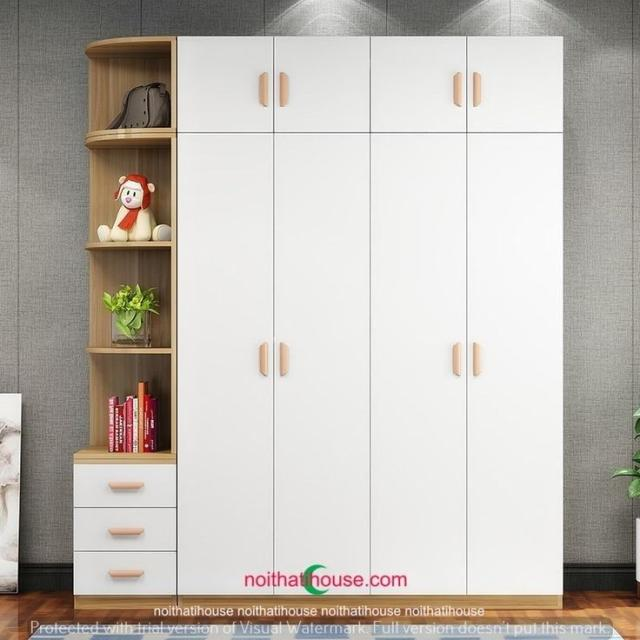door: (175, 132, 374, 560), (372, 130, 564, 562)
obstacle: (176, 35, 564, 132), (74, 454, 178, 604)
